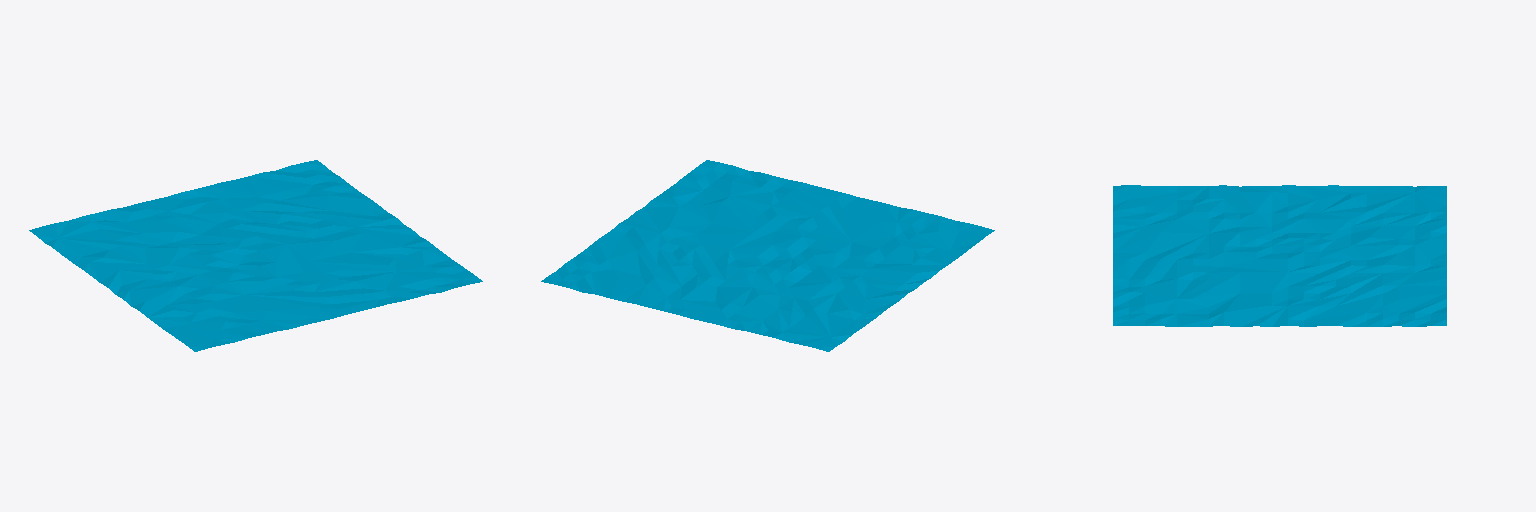
The model's file is sky.obj.
The picture shows the model from 3 angles: view 1: azimuth 30°, elevation 25°; view 2: azimuth 150°, elevation 25°; view 3: azimuth 270°, elevation 25°; orthographic projection.
Parts seen in each view (by area): view 1: water; view 2: water; view 3: water.
Boxes of the visible parts, <box> form: water: <box>29,160,482,351</box>; water: <box>541,160,994,351</box>; water: <box>1113,185,1446,326</box>.
Size of the model in its own units: 356 by 2.45 by 356.